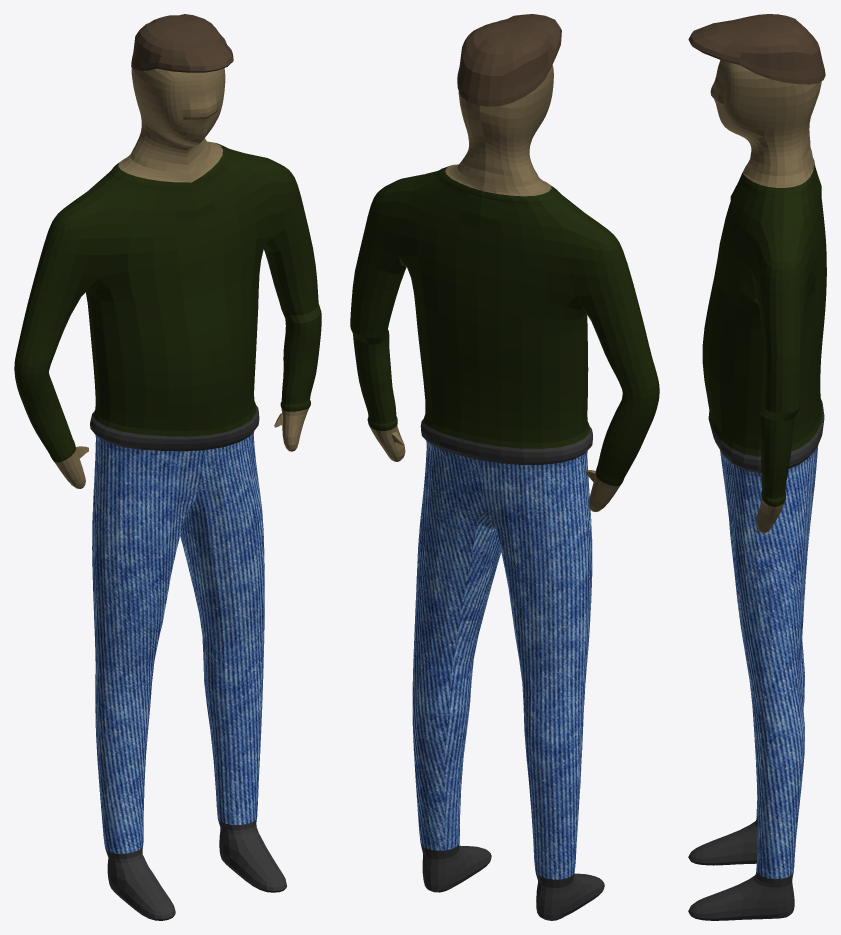
Rendered from Joselin.fbx.
3 renders of one model, left to right at view 1: azimuth 30°, elevation 25°; view 2: azimuth 150°, elevation 25°; view 3: azimuth 270°, elevation 25°, orthographic.
Parts seen in each view (by area): view 1: Joselin; view 2: Joselin; view 3: Joselin.
Part boxes in pixels (box(x1,y1,x2,y2)): Joselin: box(14, 14, 321, 920); Joselin: box(350, 14, 659, 920); Joselin: box(688, 14, 826, 920).
Size of the model in its own units: 64.69 by 176 by 25.64.
5 materials, 1 textured.
